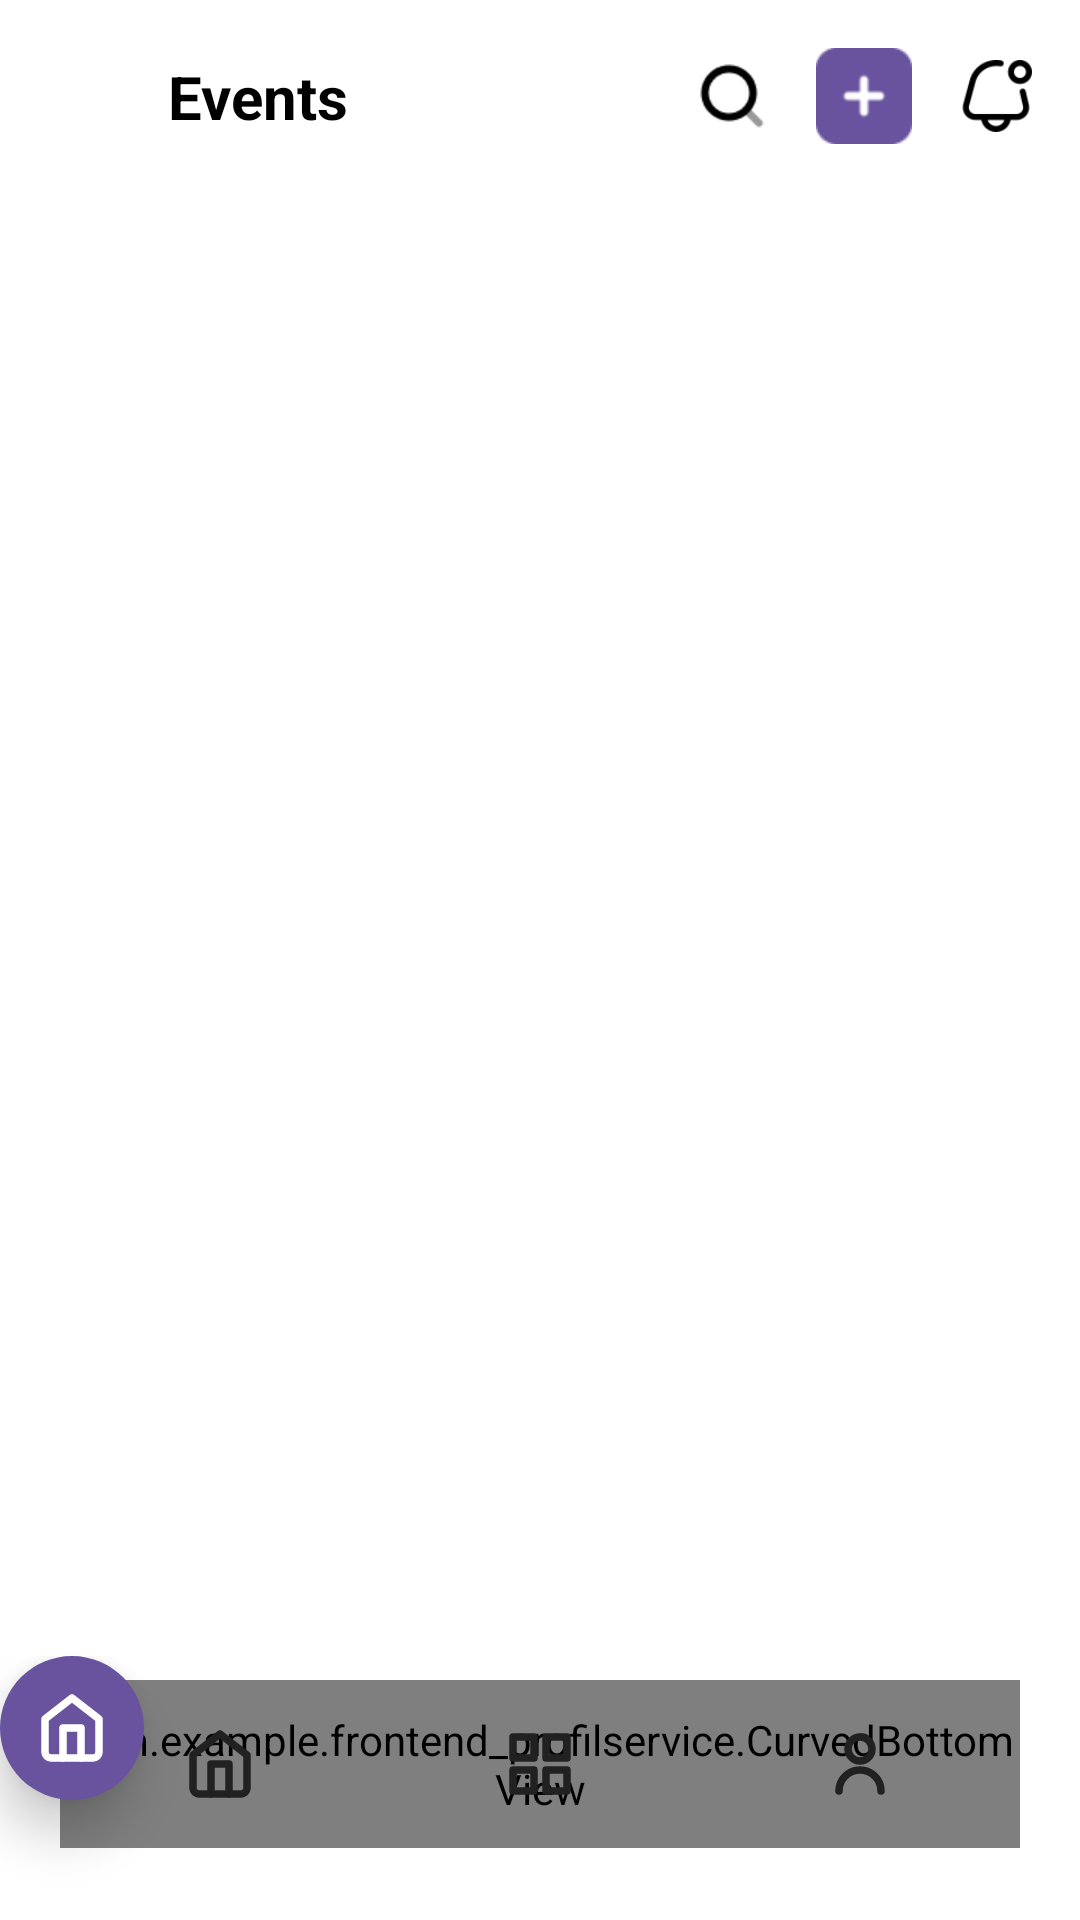

Icon bounding boxes for this 1080w x 1920h phone screenshot, format (x1, y1, x2, y2):
add event: (816, 48, 912, 144)
home: (41, 1694, 103, 1762), (184, 1730, 256, 1798)
notification: (962, 60, 1032, 132)
profile: (832, 1728, 896, 1795)
search: (700, 64, 763, 127)
